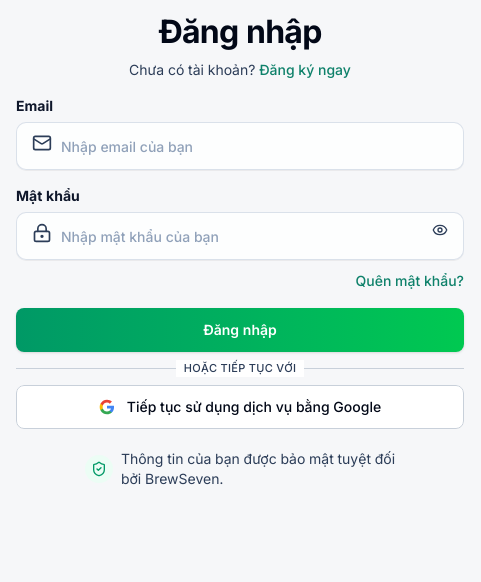
Test: LoginForm Component › displays backend 401 credential error message upon invalid login
Step 1. Type "analyst@finance.com" into the field named "Địa chỉ email" → (240, 146), box [16,122,464,170]
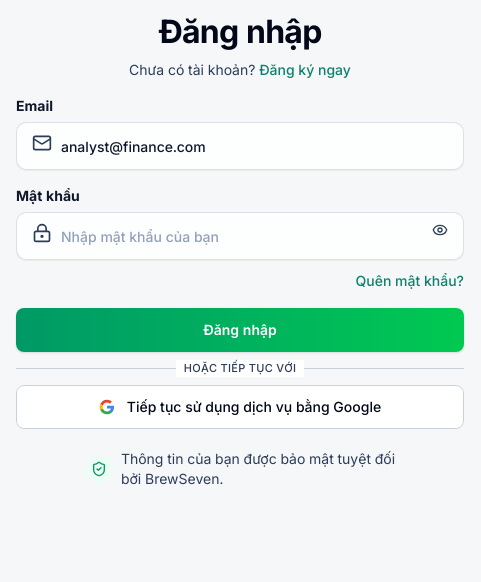
Step 2. Type "wrongpassword" into the password field with id "login-password" → (240, 236), box [16,212,464,260]
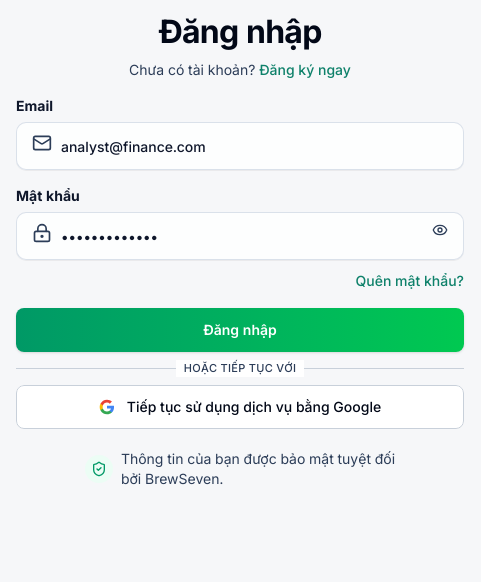
Step 3. Click the button "Đăng nhập" → click(240, 330), box [16,308,464,352]
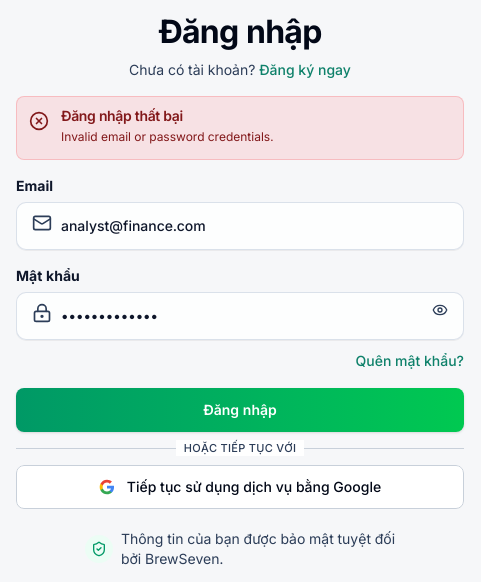
Check: the text "Invalid email or password credentials." is shown, box [61,127,273,146]
